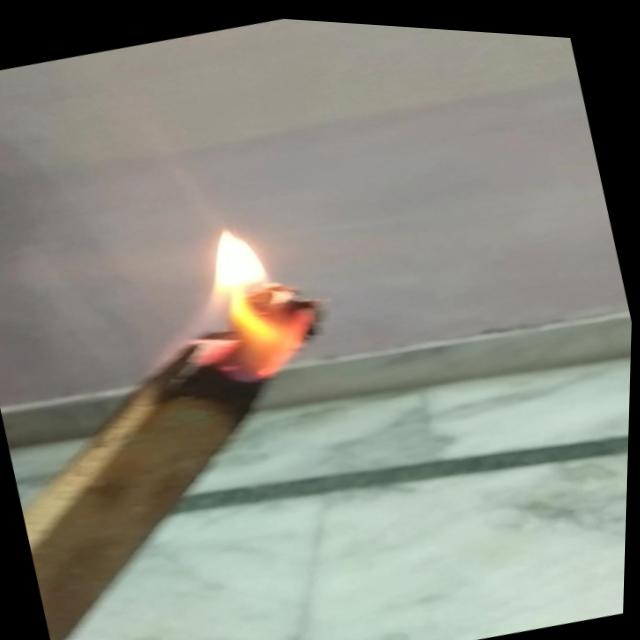fire: (119, 179, 379, 416)
